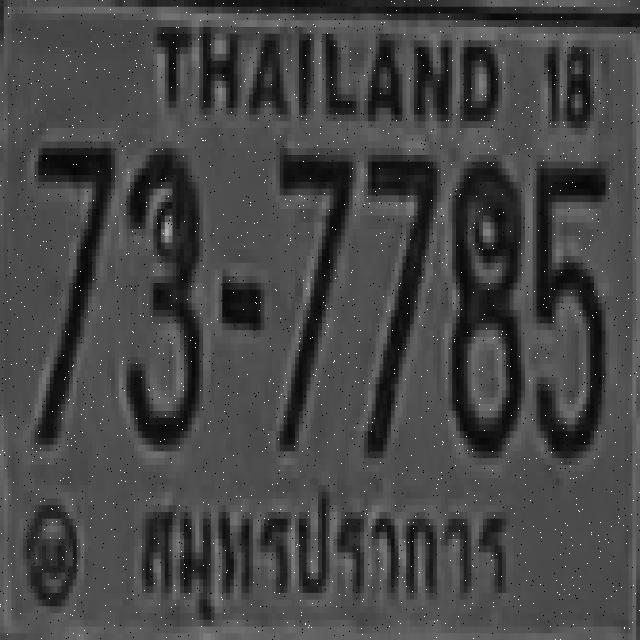3: (123, 142, 199, 444)
5: (532, 155, 606, 451)
7: (35, 135, 111, 438), (362, 148, 435, 452), (276, 142, 349, 444)
8: (448, 155, 518, 451)
SamutPrakan: (132, 474, 522, 628)
